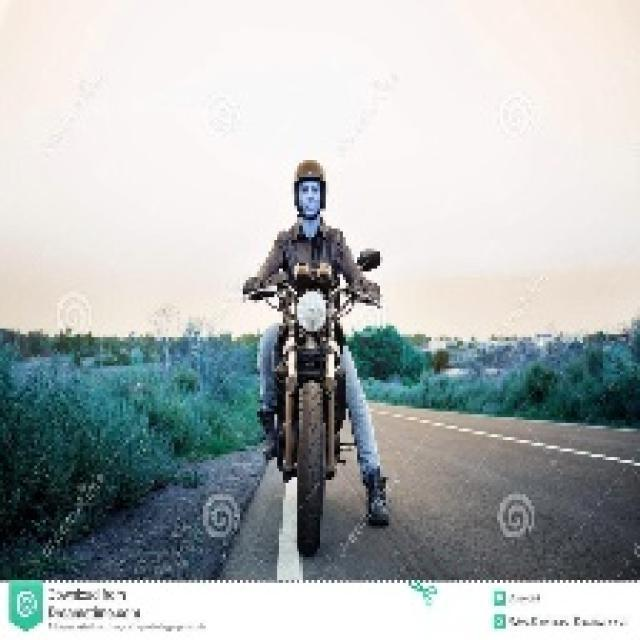motorcycle: (264, 268, 350, 536)
